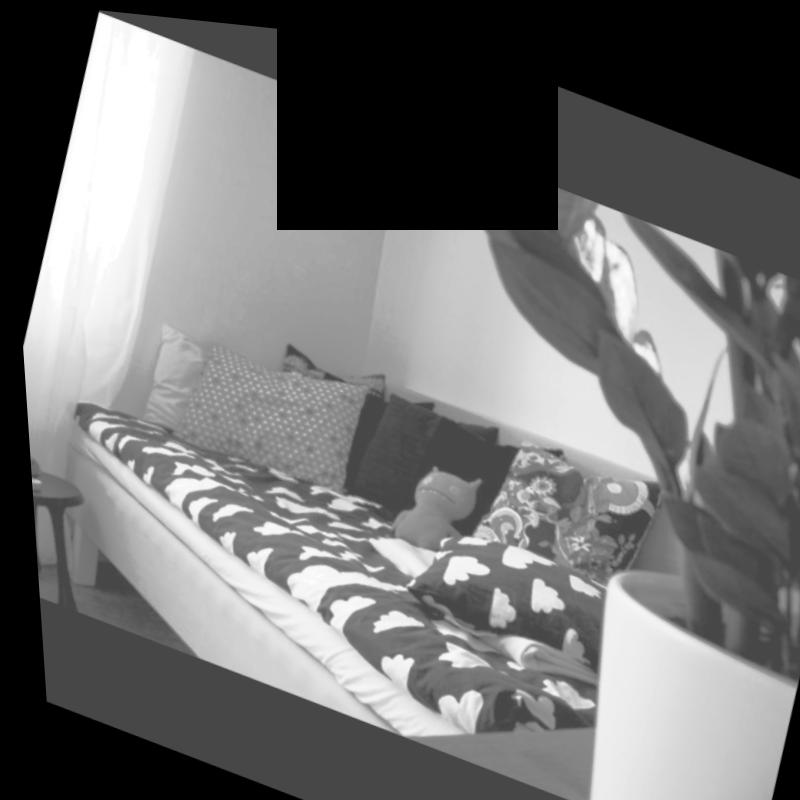pillow: (100, 284, 672, 678), (160, 313, 361, 493)
